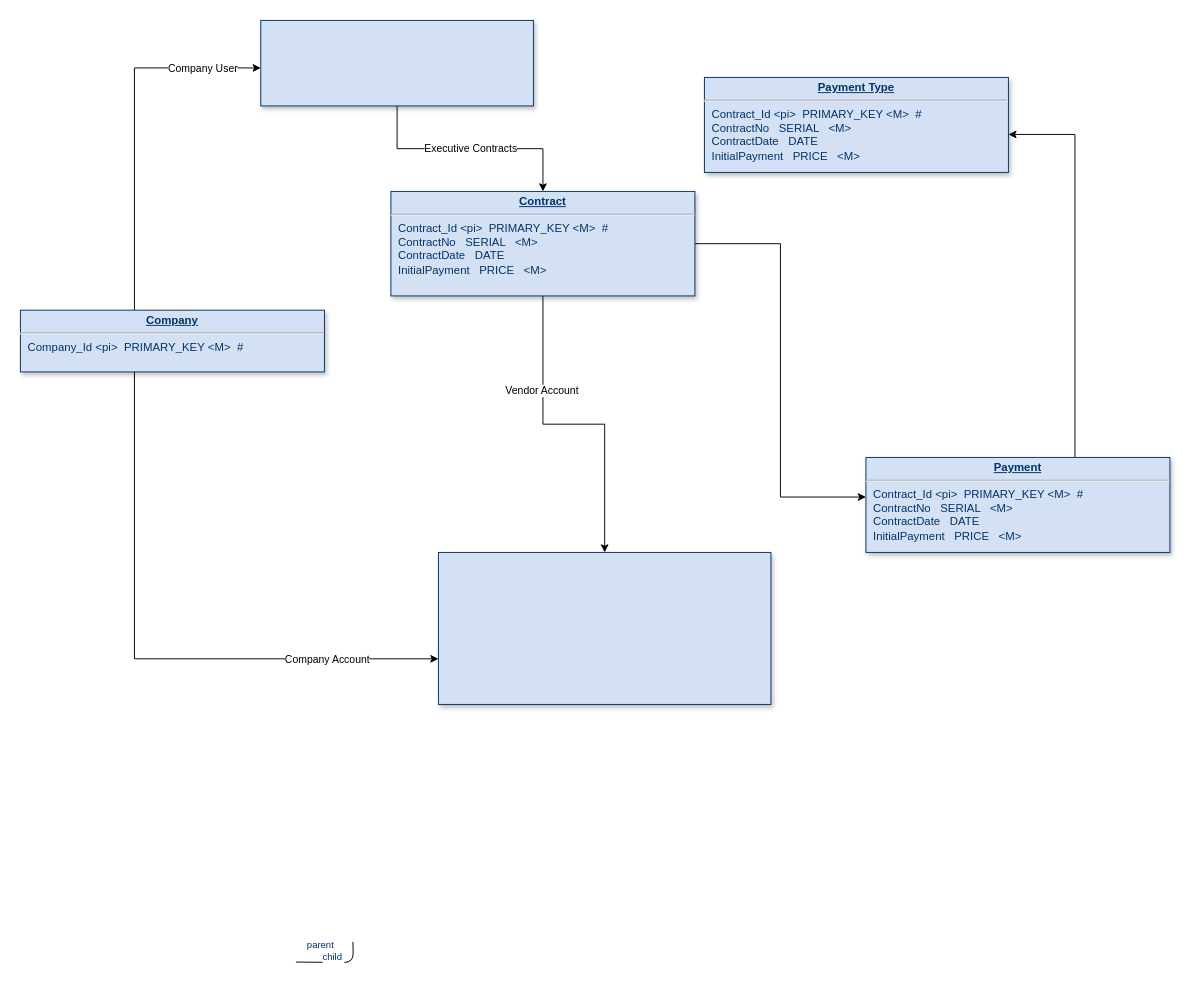
Some shapes in this 1192 by 989 pixel diagram are drawn without their labels. Here are the shapes that lost their labels. From the top down, the centre of each, then its label:
the point at 397,64: User User_Id <pi> PRIMARY_KEY <M> # Name NAME
the point at 605,629: Account Account_Id <pi> PRIMARY_KEY <M> # UserName NAME <M>
